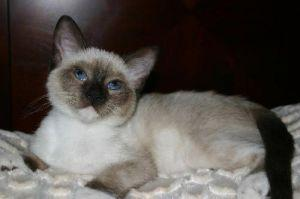siamese: (40, 14, 163, 139)
